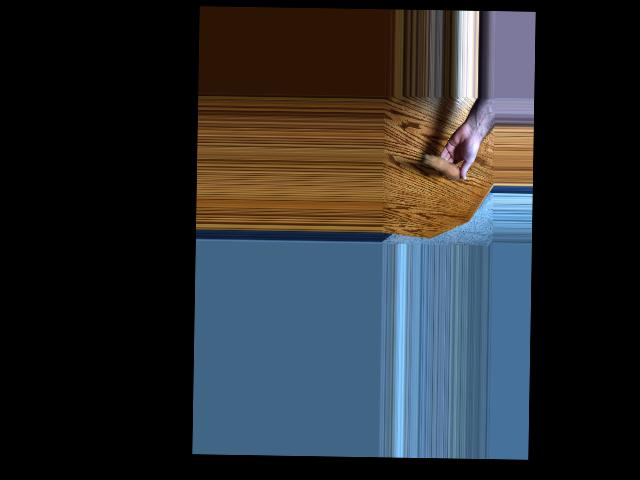sweet_potato: (422, 151, 465, 180)
